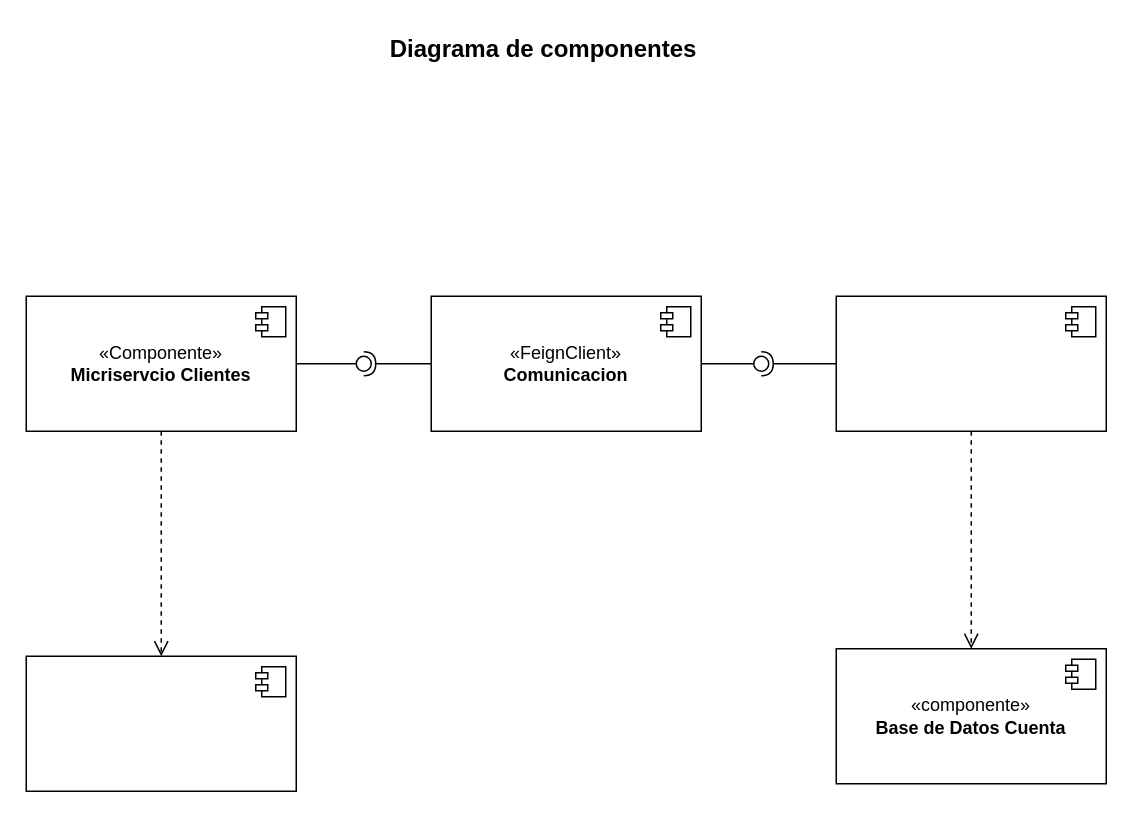
Some shapes in this 1133 by 818 pixel diagram are drawn without their labels. Each missing label, with the centre of its shape:
"«Annotation» Micriservcio Clientes" belongs at [970,363].
"«Componente» Base de Datos Clientes" belongs at [160,723].
